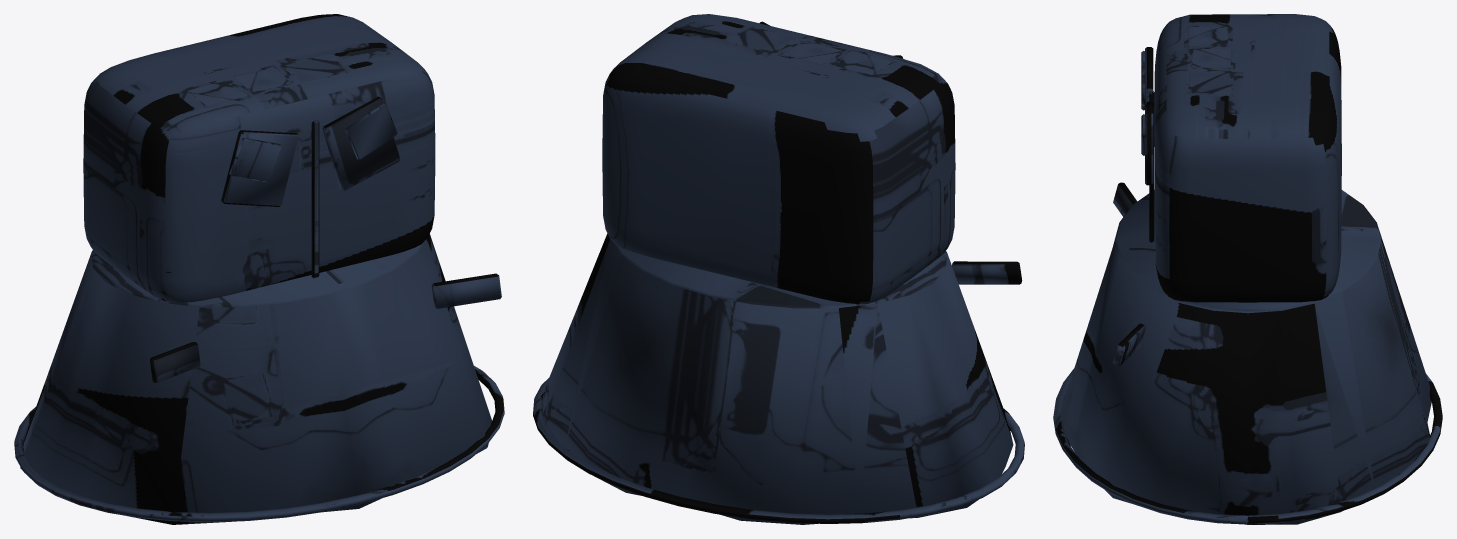
Rendered from Albatros_Abrigo.fbx.
The picture shows the model from 3 angles, left to right: view 1: azimuth 30°, elevation 25°; view 2: azimuth 150°, elevation 25°; view 3: azimuth 270°, elevation 25°; orthographic projection. The views are drawn at different scales.
Visible parts, largest first — view 1: Albatros_Abrigo; view 2: Albatros_Abrigo; view 3: Albatros_Abrigo.
Boxes of the visible parts, x1,y1,x2,y2 form: Albatros_Abrigo: (14, 14, 504, 524); Albatros_Abrigo: (533, 14, 1024, 524); Albatros_Abrigo: (1053, 14, 1442, 524).
Bounding box in the file's own units: 4.32 × 3.45 × 3.39.
